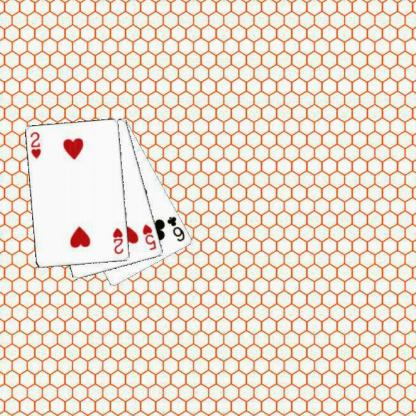2H: (110, 225, 125, 256), (28, 130, 42, 160)
5H: (140, 222, 158, 252)
6C: (165, 214, 186, 243)
